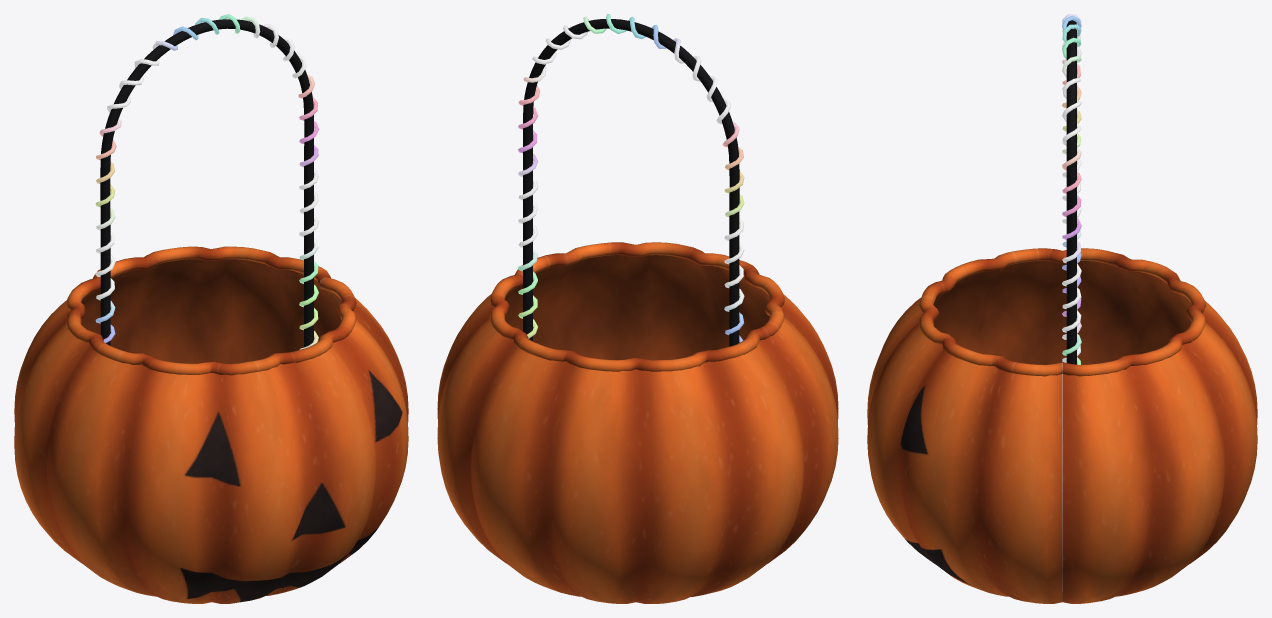
File: candy-bucket.glb
The picture shows the model from 3 angles, left to right: view 1: azimuth 30°, elevation 25°; view 2: azimuth 150°, elevation 25°; view 3: azimuth 270°, elevation 25°; orthographic projection.
Parts seen in each view (by area): view 1: candy-bucket, handle; view 2: candy-bucket, handle; view 3: candy-bucket, handle.
Part boxes in pixels (bbox=[...]): candy-bucket: bbox=[14, 246, 408, 603]; handle: bbox=[95, 14, 318, 349]; candy-bucket: bbox=[437, 242, 838, 603]; handle: bbox=[518, 14, 744, 346]; candy-bucket: bbox=[867, 248, 1257, 603]; handle: bbox=[1062, 14, 1081, 364].
Bounding box in the file's own units: 2.16 × 3.31 × 2.14.
Materials: 3 (2 with a texture image).
